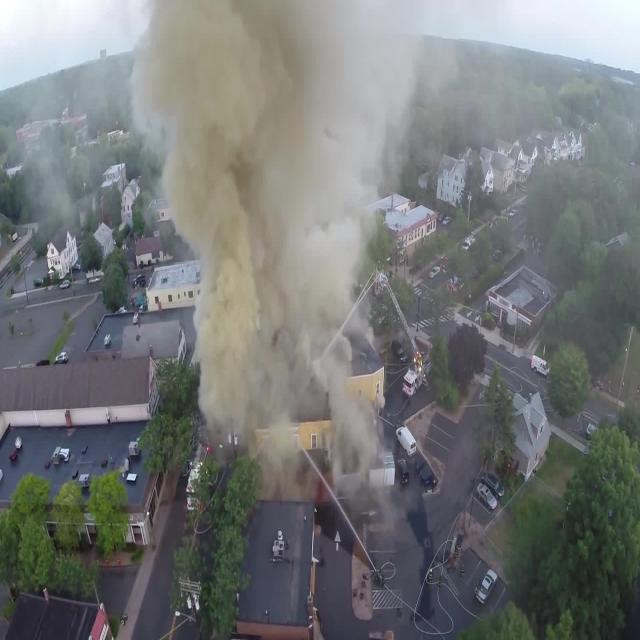Smoke: (100, 2, 412, 509)
